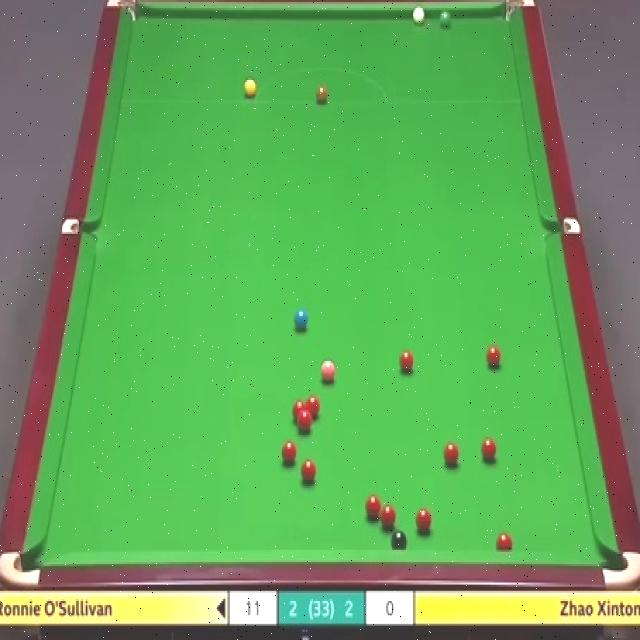black-ball: (391, 528, 408, 550)
blue-ball: (293, 308, 310, 330)
brown-ball: (316, 81, 328, 102)
green-ball: (439, 12, 450, 28)
pink-ball: (320, 360, 337, 385)
red-ball: (442, 441, 462, 468), (415, 508, 433, 536), (364, 495, 382, 521), (278, 442, 298, 465), (398, 347, 415, 374), (481, 437, 499, 462), (381, 502, 396, 532), (296, 466, 314, 487), (306, 395, 320, 420), (292, 400, 306, 425), (486, 345, 500, 370), (496, 531, 514, 549), (298, 413, 313, 433)
white-ball: (412, 6, 424, 24)
yellow-ball: (243, 80, 256, 97)
